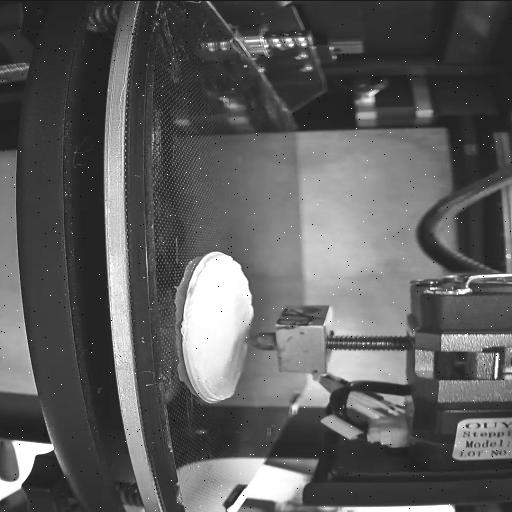over_extrusion: (199, 252, 257, 320), (190, 368, 242, 400)
